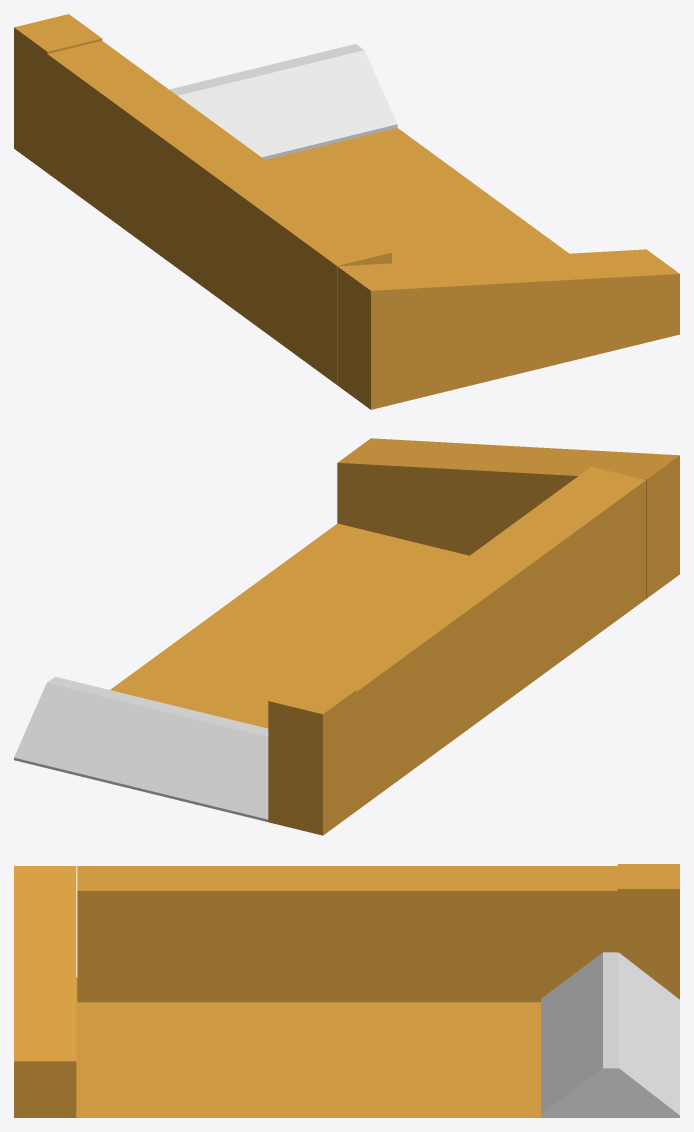
The model's file is course05.glb.
The picture shows the model from 3 angles, top to bottom: view 1: azimuth 30°, elevation 25°; view 2: azimuth 150°, elevation 25°; view 3: azimuth 270°, elevation 25°; orthographic projection. The views are drawn at different scales.
Parts seen in each view (by area): view 1: course, ramp; view 2: course, ramp; view 3: course, ramp.
Boxes of the visible parts, x1,y1,x2,y2 form: course: [14, 14, 679, 409]; ramp: [169, 44, 397, 159]; course: [110, 438, 679, 835]; ramp: [14, 676, 268, 821]; course: [14, 864, 679, 1117]; ramp: [541, 952, 679, 1117].
Size of what is drawn, in the model's own units: 16 by 6 by 32.
